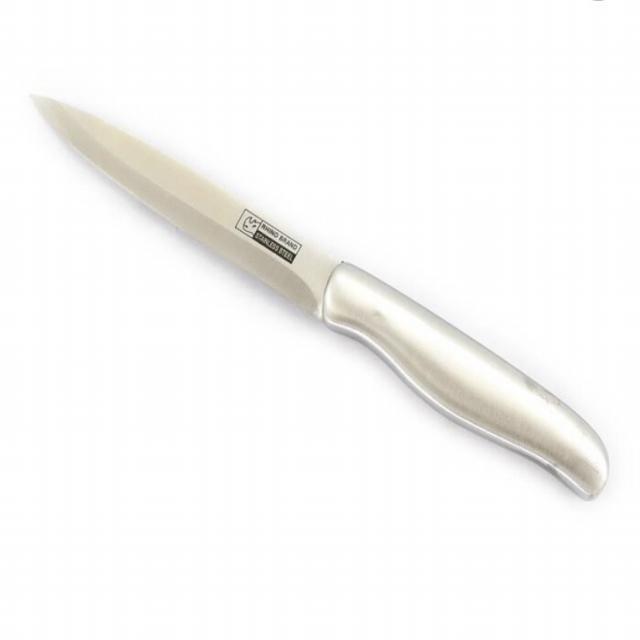Knife: (26, 81, 616, 504)
